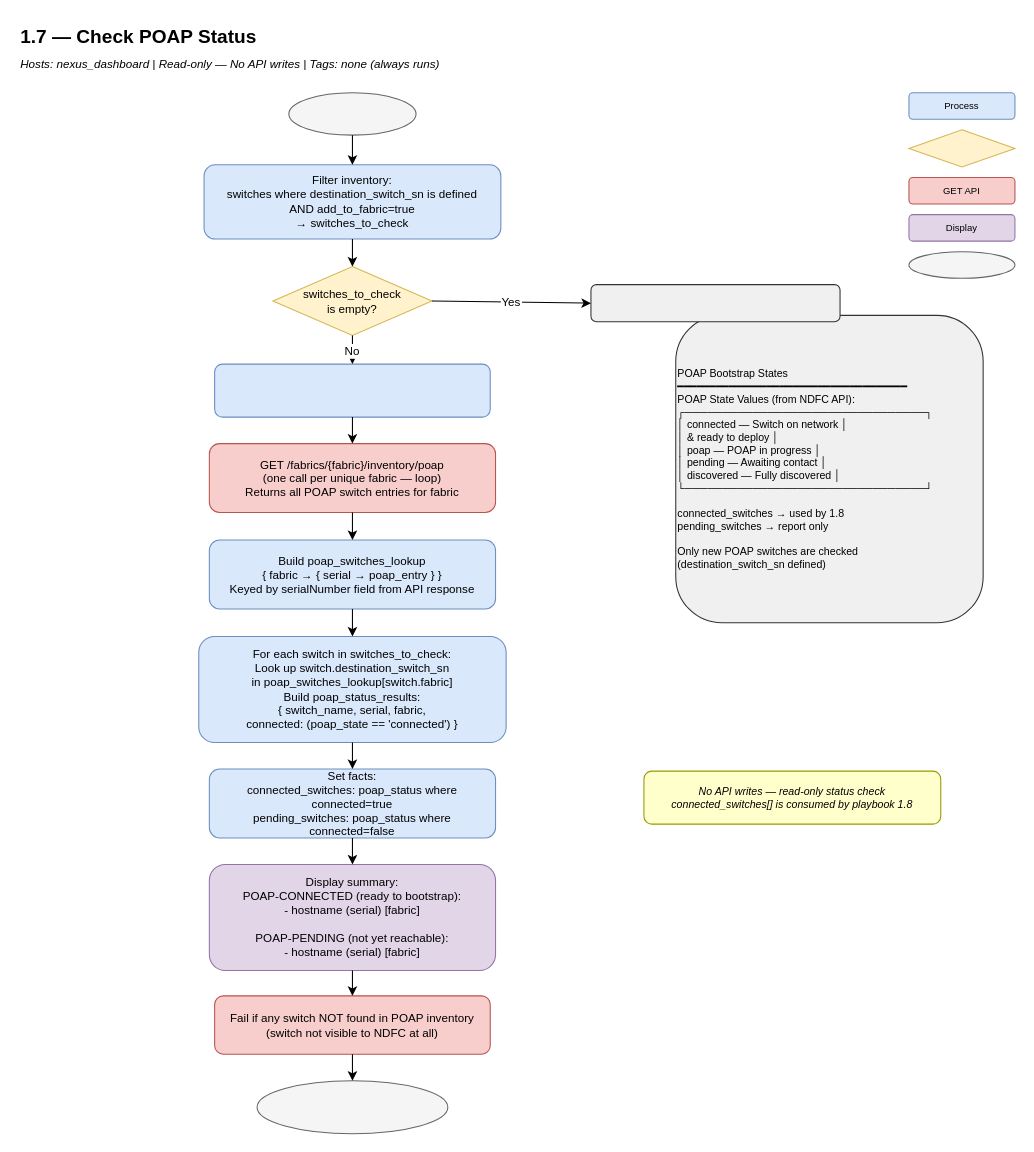
Some shapes in this 1034 by 1152 pixel diagram are drawn without their labels. The shapes that lost their labels are listed below. From the top down, each one's centre as x and y in pixels, then its label:
point 352,113: START
point 961,148: Decision
point 961,264: Start / End
point 715,303: No POAP switches configured — skip all
point 352,390: Extract unique fabrics from switches_to_check → unique_fabrics[]
point 352,1107: END (connected_switches fact available for 1.8)
